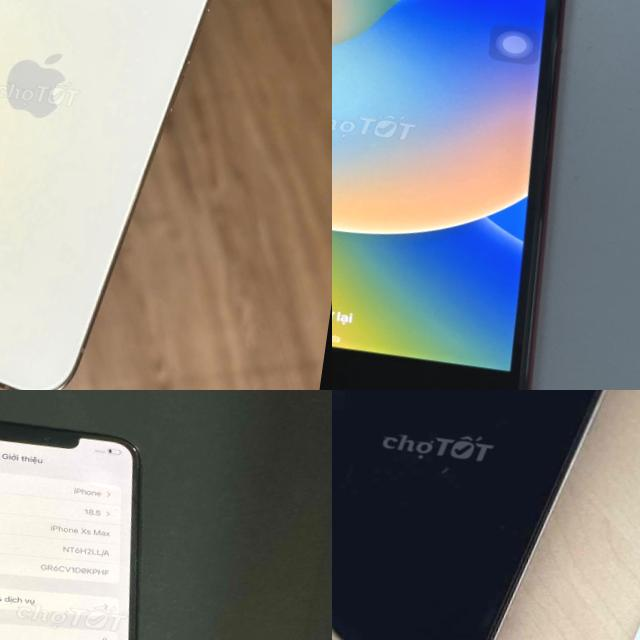gen_12_13: (0, 0, 250, 390)
gen_14: (332, 390, 640, 640)
gen_7_8: (332, 0, 613, 390)
gen_x_xs: (0, 390, 200, 640)
